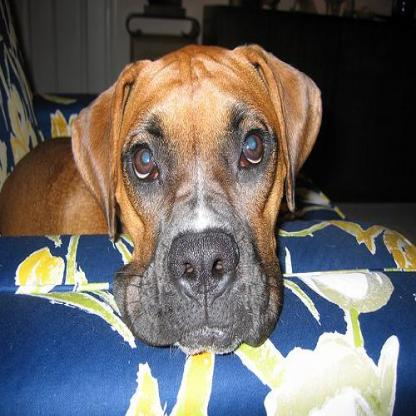boxer: (3, 39, 326, 353)
